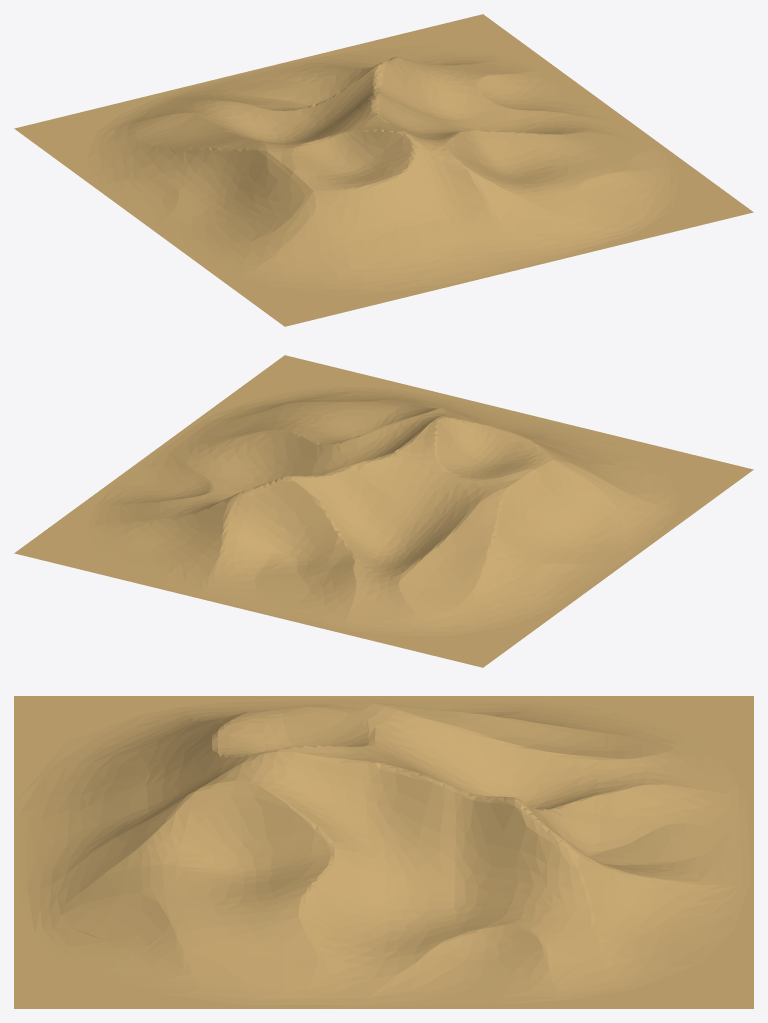
Rendered from dune01.fbx.
3 views of the same model, one above another, from view 1: azimuth 30°, elevation 25°; view 2: azimuth 150°, elevation 25°; view 3: azimuth 270°, elevation 25° (orthographic). The views are drawn at different scales.
Visible parts, largest first — view 1: dune01; view 2: dune01; view 3: dune01.
Part boxes in pixels (x1,y1,x2,y2): dune01: (14,14,753,326); dune01: (14,355,753,667); dune01: (14,696,753,1008).
Size of the model in its own units: 10000 by 1383 by 10000.
